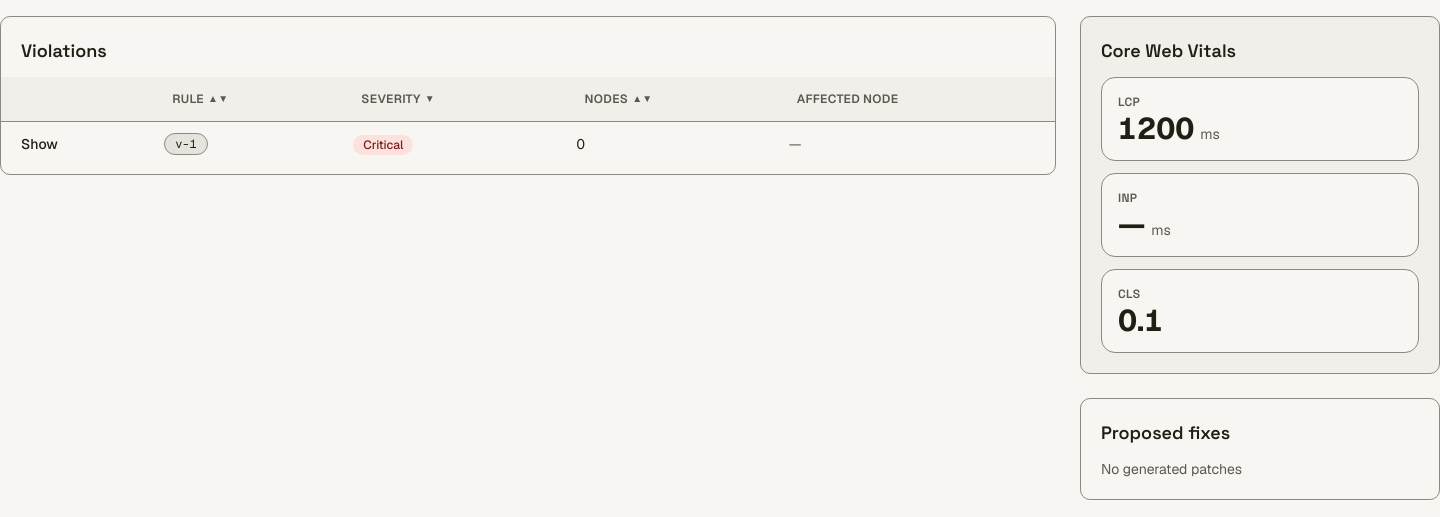
Test: DeveloperView › INLINE_EXPAND: clicking a row expands instantly and the button toggles it closed
This screenshot has width=1440, height=517.
Expected: the text "Violation v-1" is not shown
Click the button with aria-label "Show details for v-1".
click(39, 144)  # box [13,122,66,166]
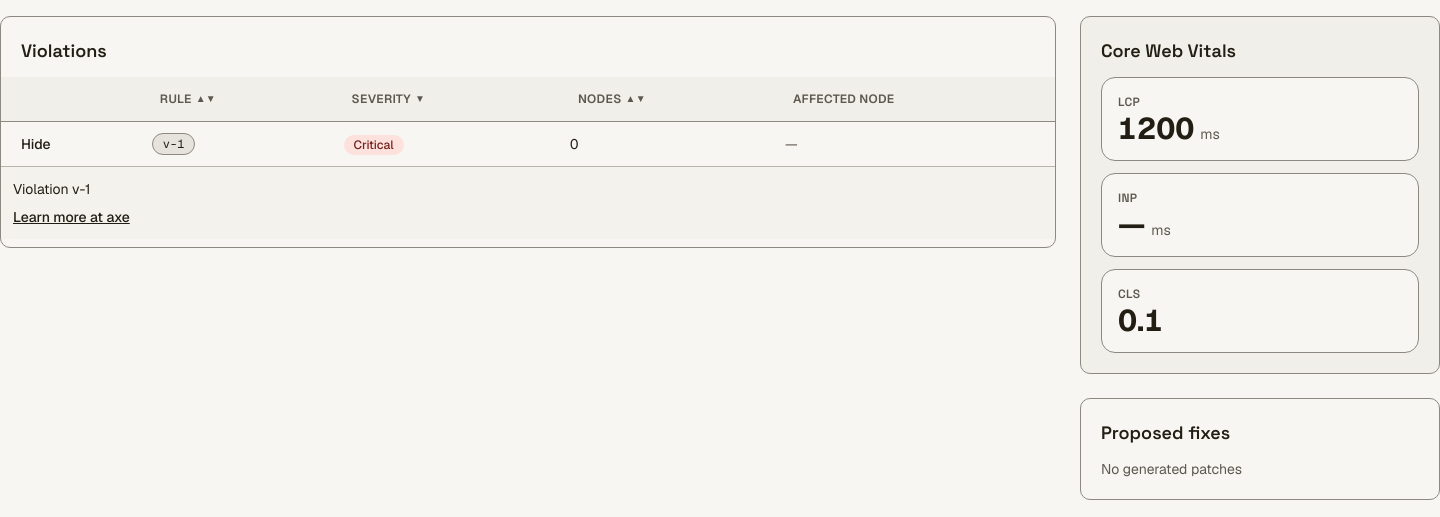
Expected: the text "Violation v-1" is shown, [13,180,90,198]
Expected: the link "Learn more at axe" is shown, [13,207,130,227]
Click the button with aria-label "Hide details for v-1".
click(36, 144)  # box [13,122,59,166]
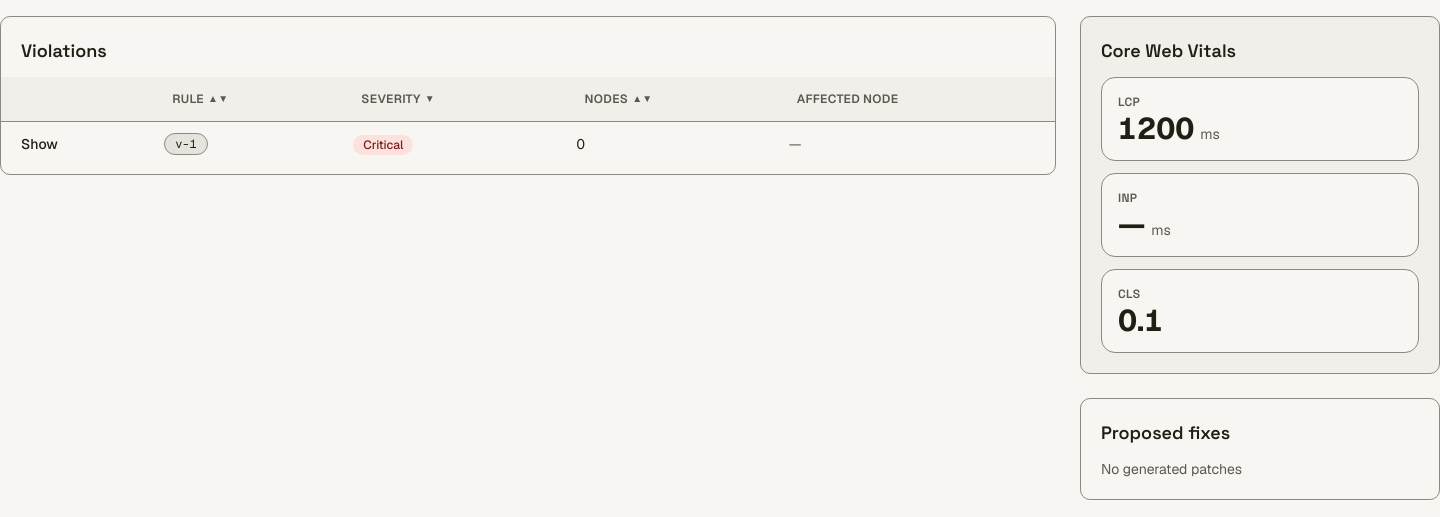
Expected: the text "Violation v-1" is gone
